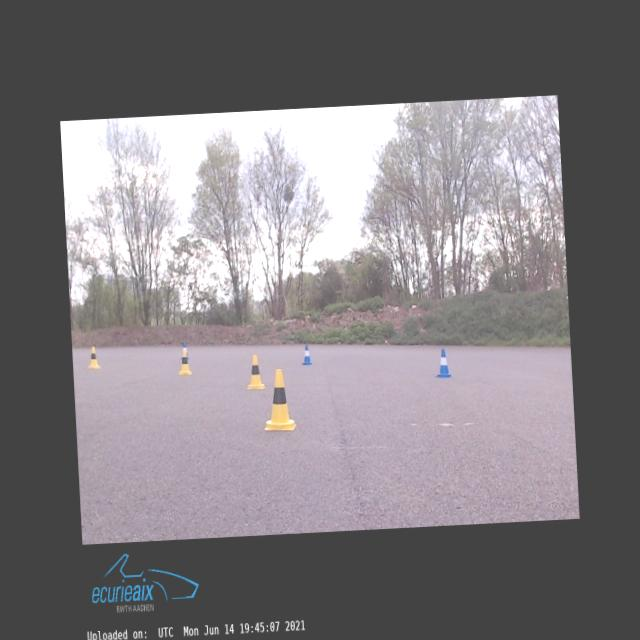blue_cone: (434, 348, 452, 378), (300, 346, 312, 366), (180, 344, 190, 359)
yellow_cone: (262, 368, 296, 432), (245, 354, 265, 389), (178, 349, 192, 374), (86, 346, 100, 368)
